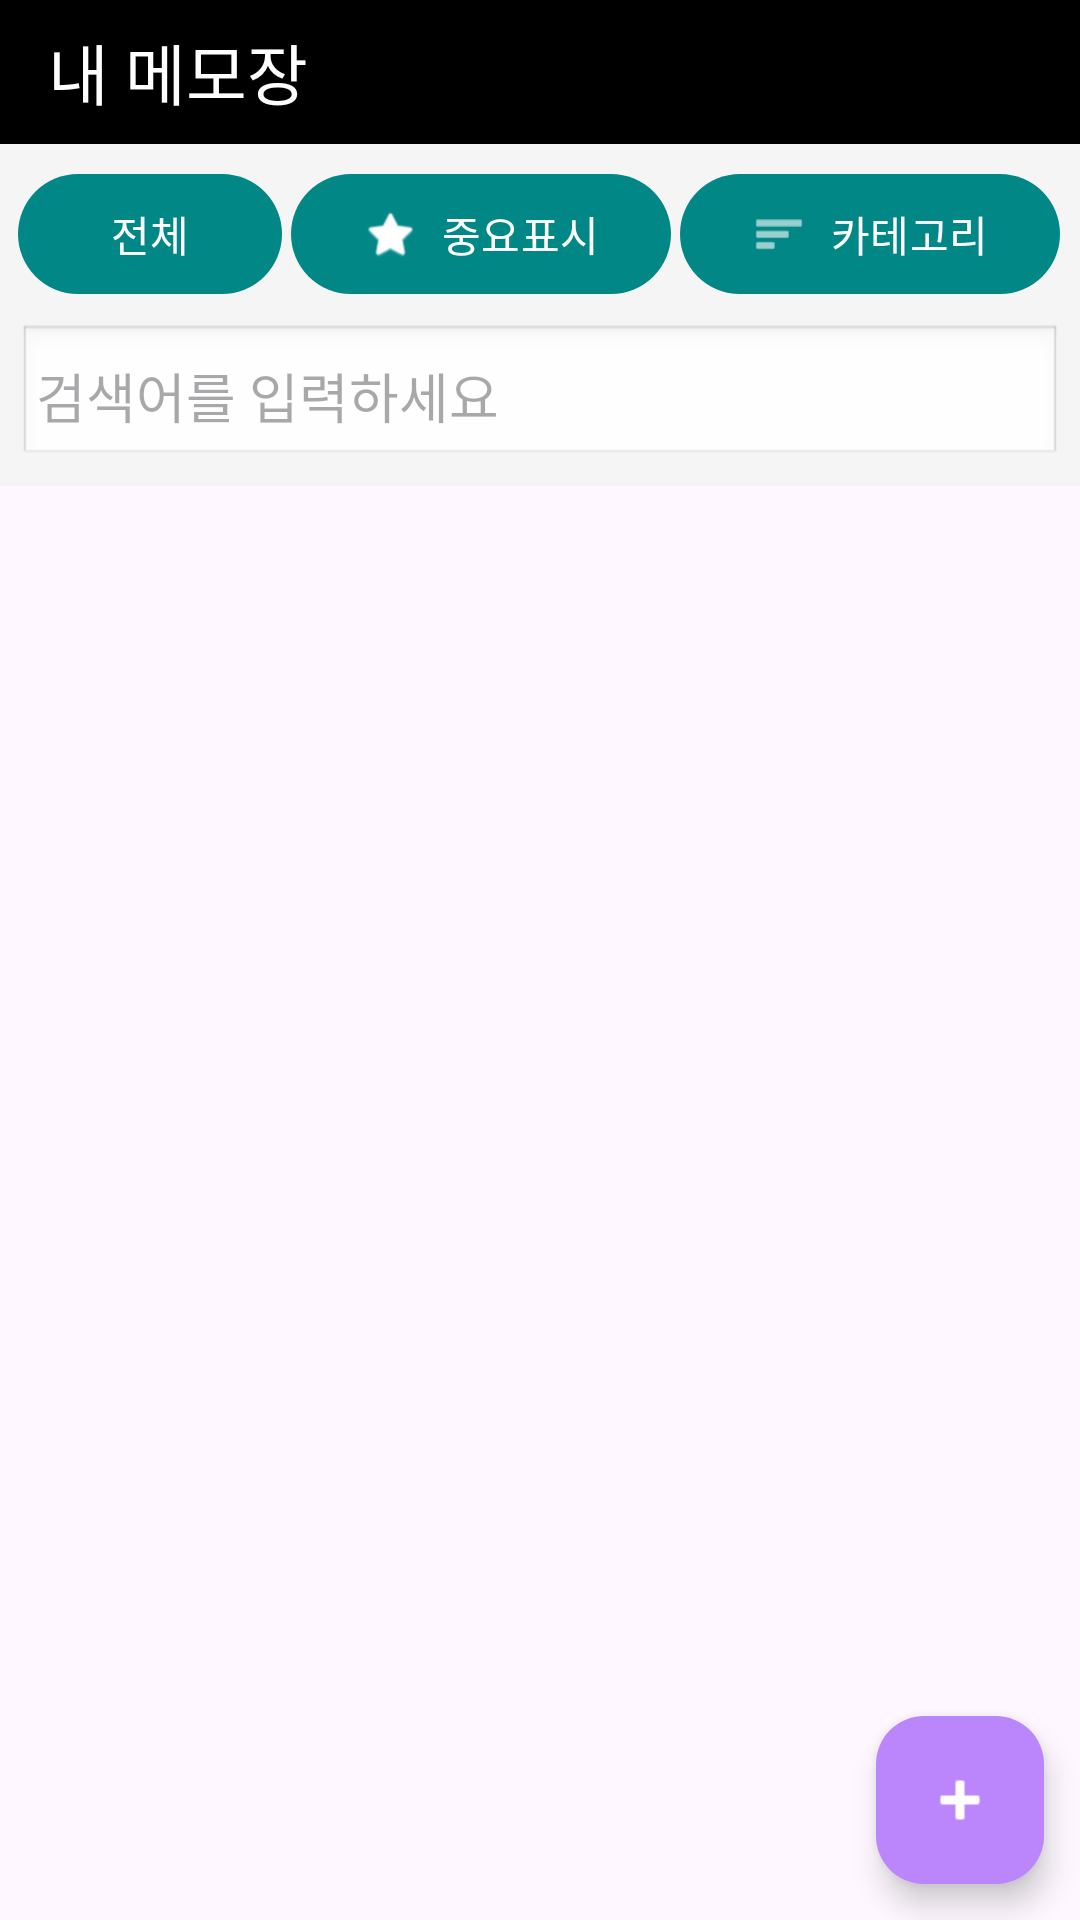

Icons on this 1080px x 1920px Android screen, each with the point to tap as point (x, y):
add: point (960, 1800)
